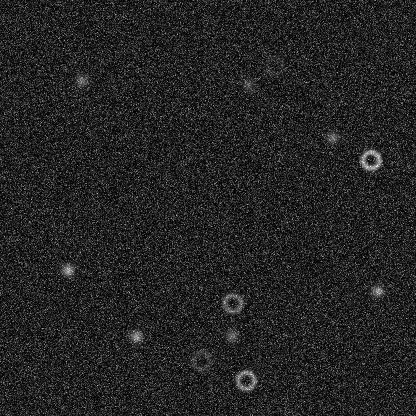Ring: (262, 53, 286, 77), (189, 348, 213, 372), (233, 368, 257, 392), (220, 291, 244, 315), (358, 147, 382, 171)
Spot: (240, 76, 256, 92), (128, 328, 144, 344), (223, 327, 239, 343), (369, 283, 385, 299), (73, 72, 89, 88), (59, 262, 75, 278), (324, 129, 340, 145)
